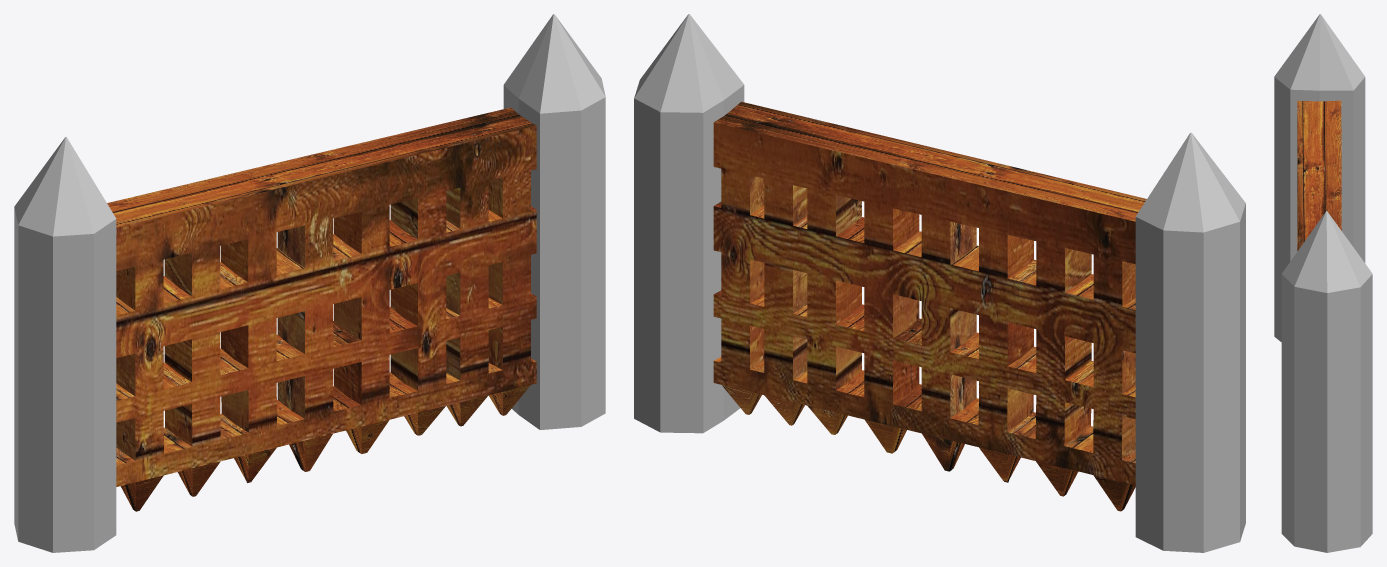
Rendered from larpGate.fbx.
The picture shows the model from 3 angles, left to right: view 1: azimuth 30°, elevation 25°; view 2: azimuth 150°, elevation 25°; view 3: azimuth 270°, elevation 25°; orthographic projection. The views are drawn at different scales.
Parts seen in each view (by area): view 1: Cube.001, Plane.001, Plane; view 2: Cube.001, Plane.001, Plane; view 3: Plane, Plane.001, Cube.001.
Boxes of the visible parts, bbox=[...] form: Cube.001: bbox=[107, 107, 536, 511]; Plane.001: bbox=[14, 137, 116, 552]; Plane: bbox=[503, 14, 605, 429]; Cube.001: bbox=[713, 101, 1146, 511]; Plane.001: bbox=[1135, 132, 1245, 552]; Plane: bbox=[634, 14, 744, 433]; Plane: bbox=[1281, 211, 1372, 552]; Plane.001: bbox=[1274, 14, 1365, 341]; Cube.001: bbox=[1297, 100, 1341, 251].
Size of the model in its own units: 2136 by 1362 by 378.
